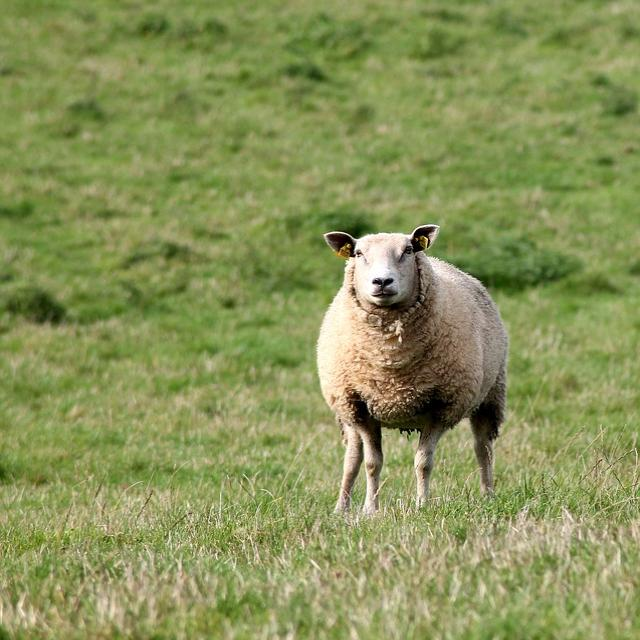goat: (314, 225, 507, 517)
